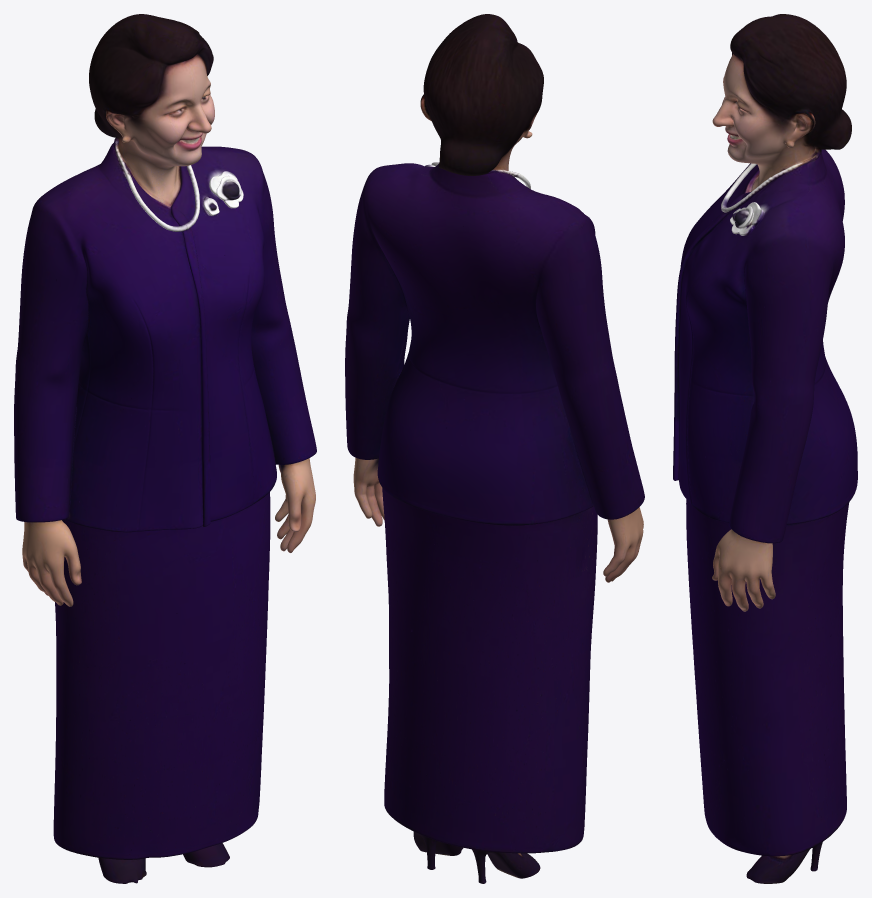
Rendered from Diosdado(female).glb.
3 views of the same model, side by side, from view 1: azimuth 30°, elevation 25°; view 2: azimuth 150°, elevation 25°; view 3: azimuth 270°, elevation 25° (orthographic). The views are drawn at different scales.
Bounding box in the file's own units: 0.4282 × 1.19 × 0.2382.
1 material, 1 textured.
